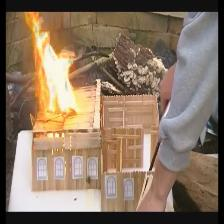fire: (27, 11, 79, 112)
